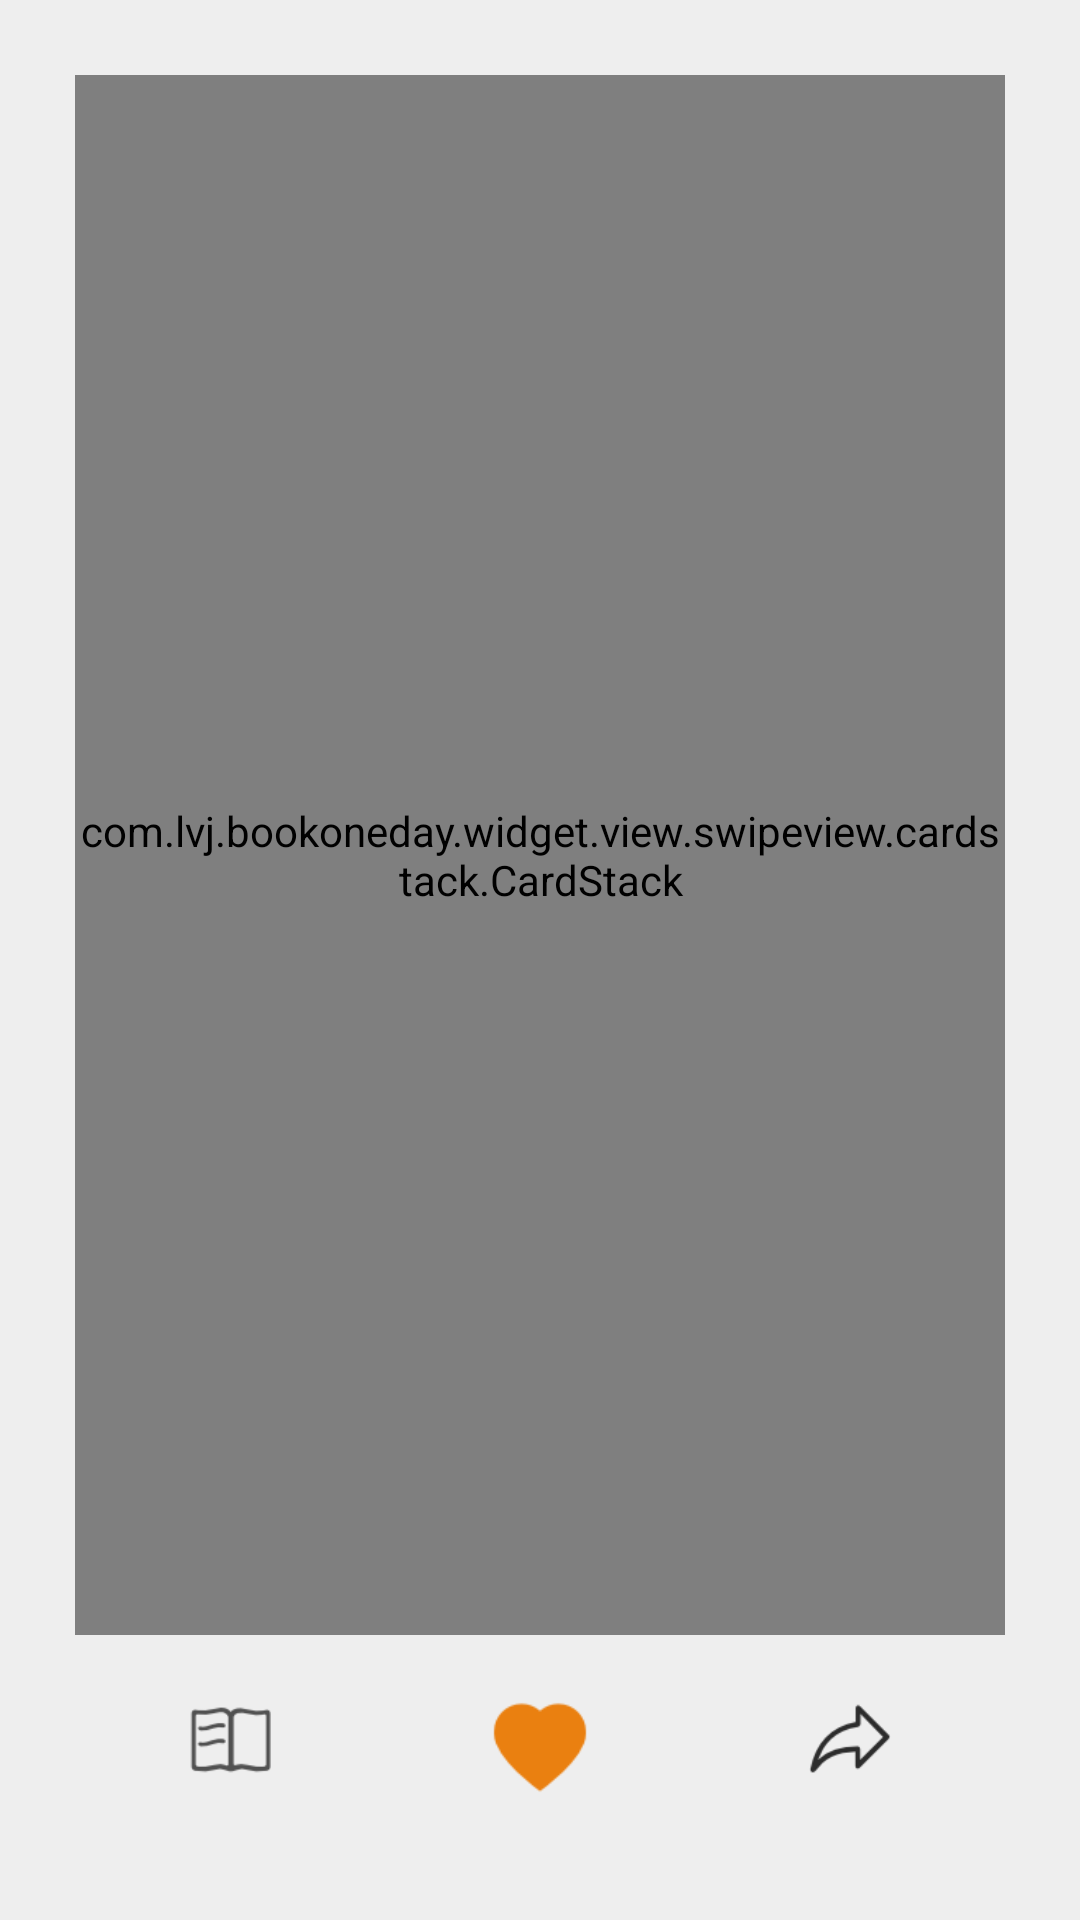

Screen size 1080*1920. Icon name, then its box in pixels as (x1, y1, x2, y2):
words book: (191, 1707, 271, 1772)
words like: (493, 1703, 587, 1792)
words share: (810, 1705, 890, 1773)
